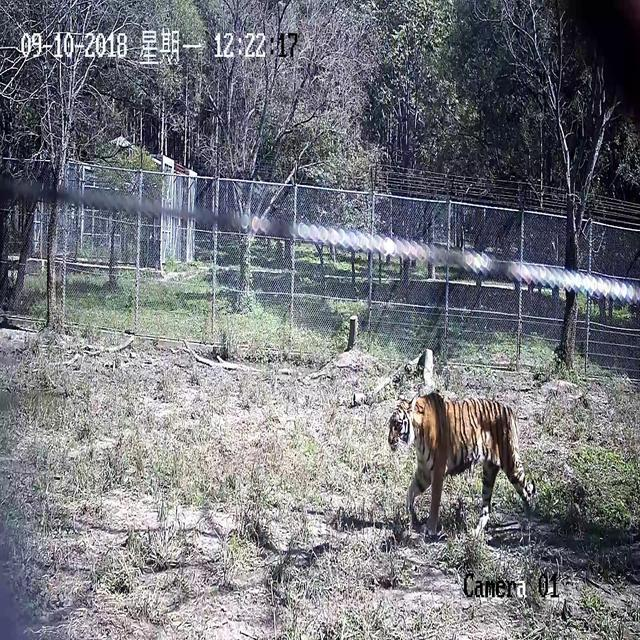tiger: (386, 348, 537, 539)
